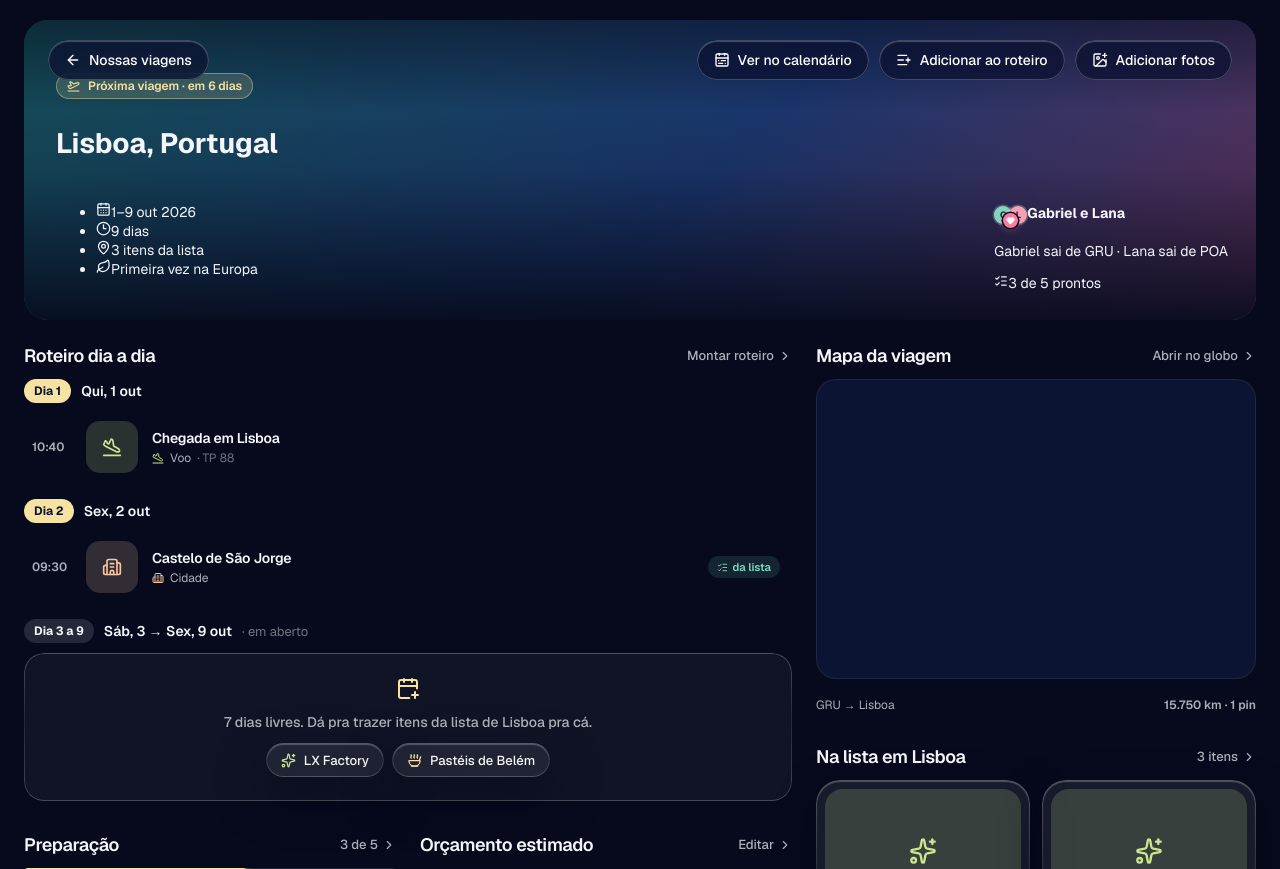
Test: R20c — orçamento › muda uma linha, apaga outra e cria uma nova, depois relê
Click the button with aria-label "Editar orçamento": (765, 844) [738,836,792,853]
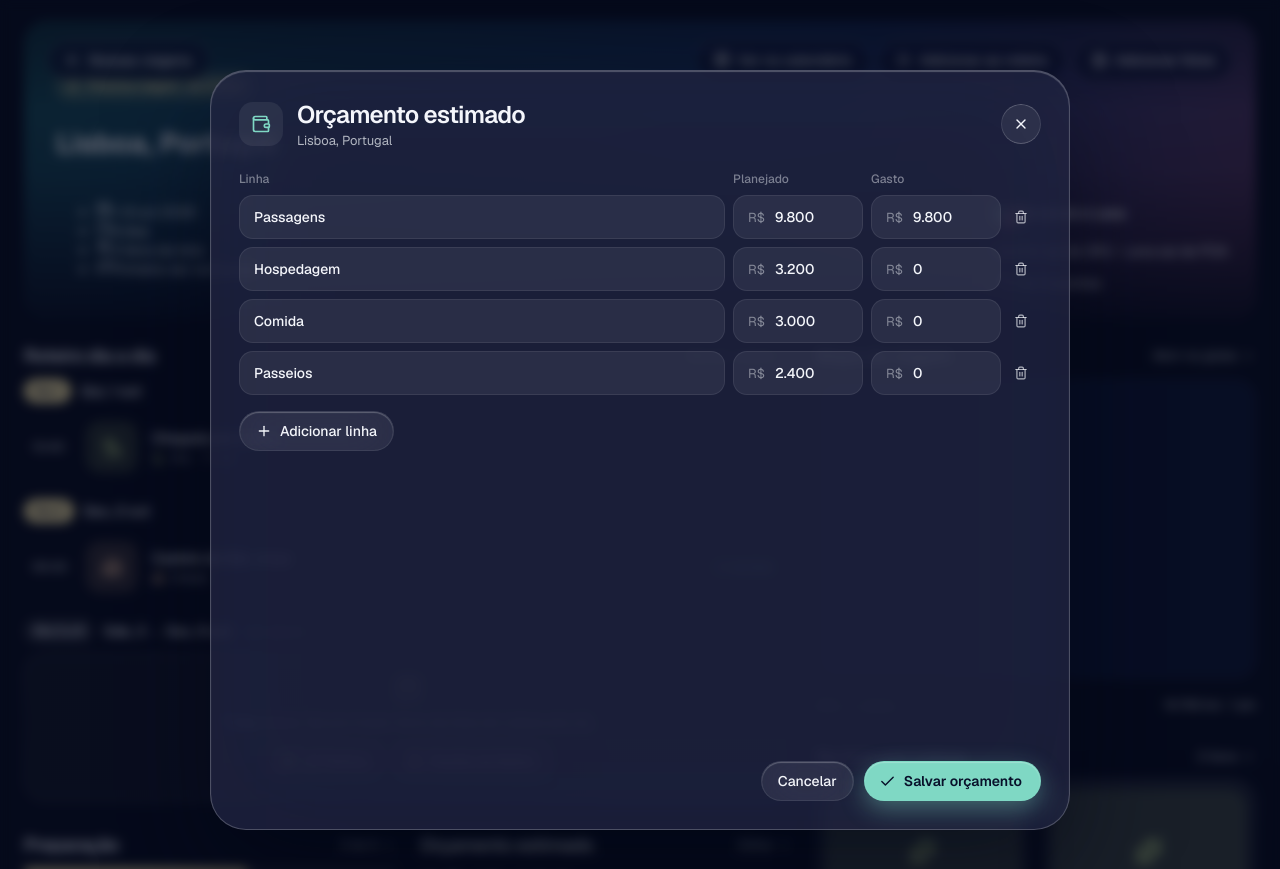
expect the field named "Planejado da linha 1" holds "9.800": met, box [775,197,848,237]
Replace the text in the field named "Planejado da linha 3" with "2.600": (811, 321) [775,301,848,341]
Click the button named "Apagar a linha Passeios": (1021, 373) [1009,361,1033,385]
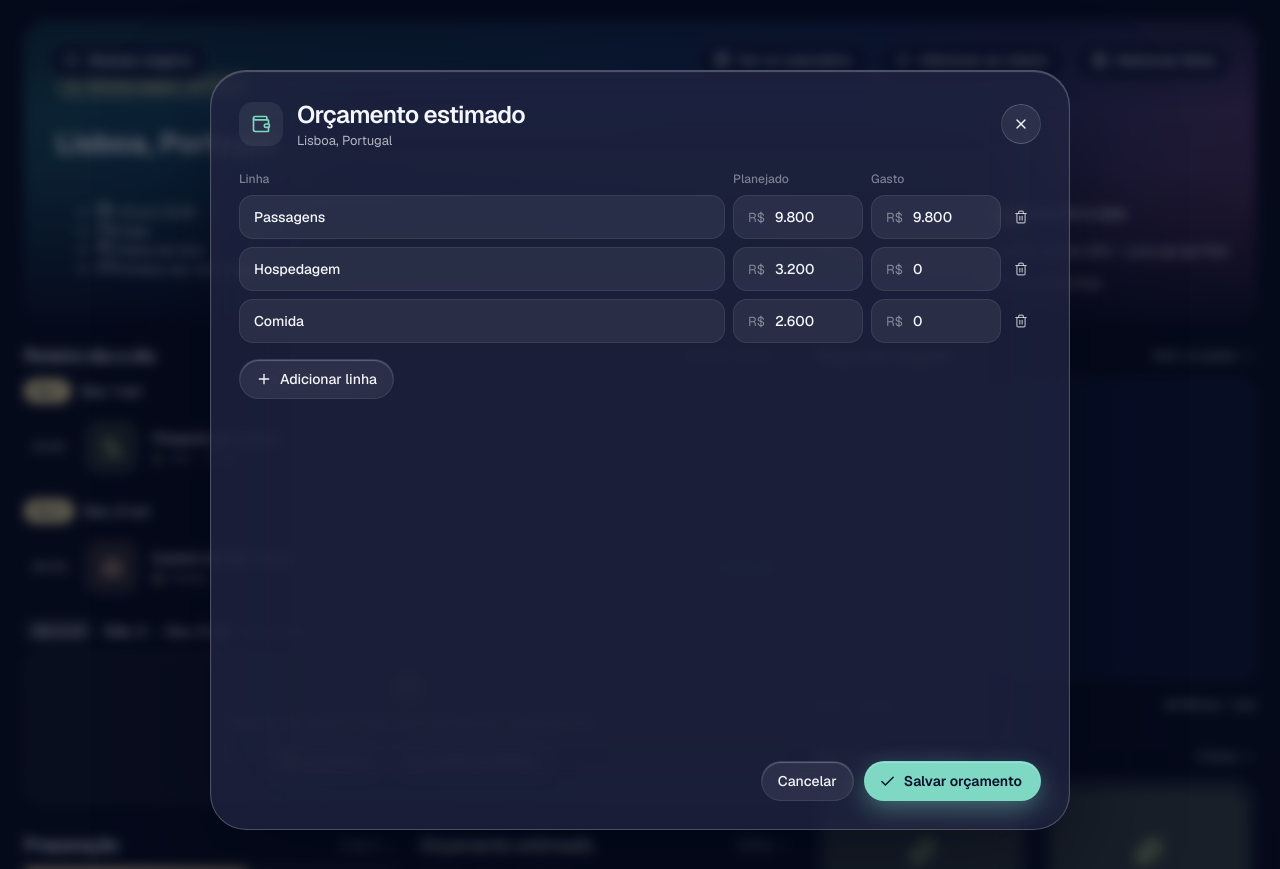
Click the button "Adicionar linha": (316, 379) [239,359,394,399]
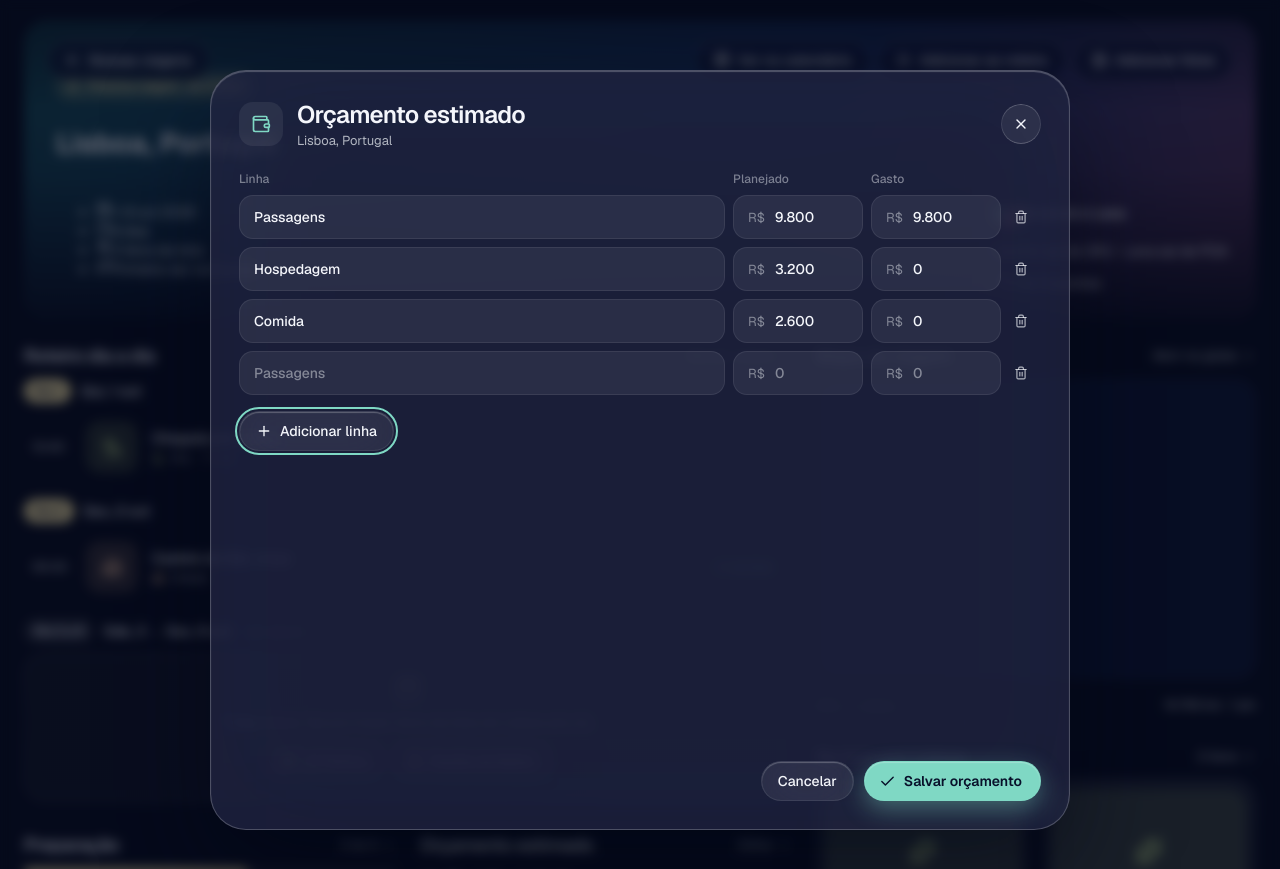
In the field named "Rótulo da linha 4": (482, 373) [254,353,710,393], type "Seguro"
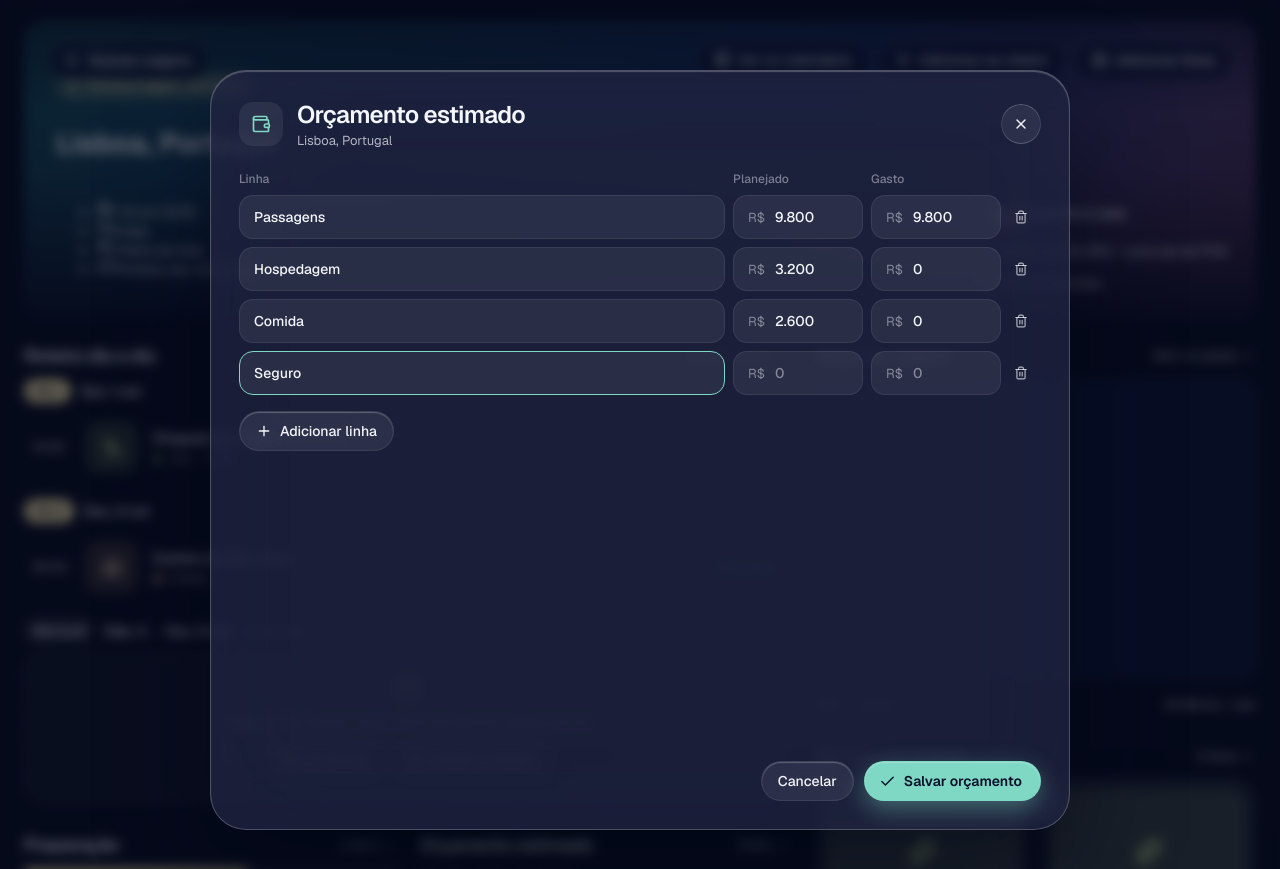
In the field named "Planejado da linha 4": (811, 373) [775,353,848,393], type "500"
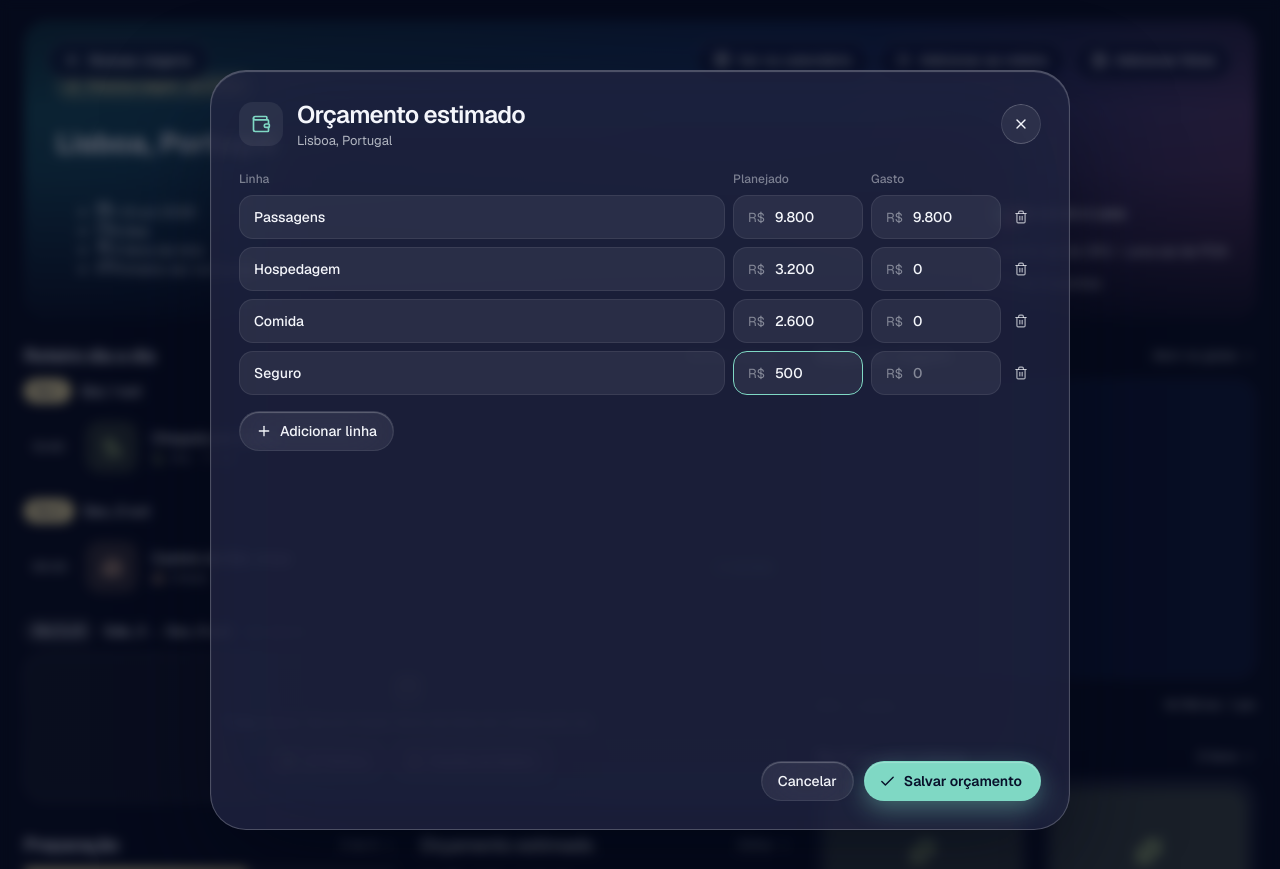
Click the button "Salvar orçamento": (952, 781) [864,761,1041,801]
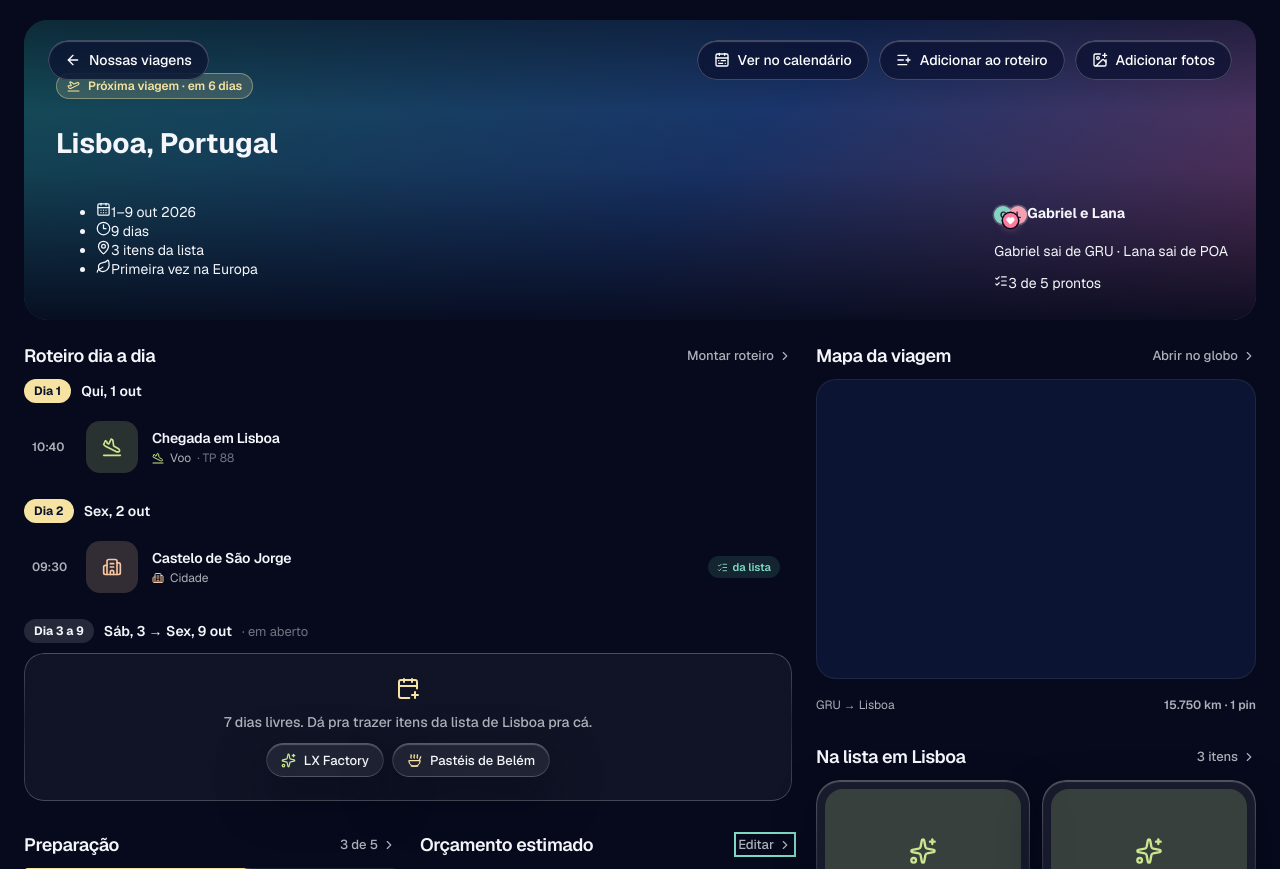
expect the dialog is gone: met
